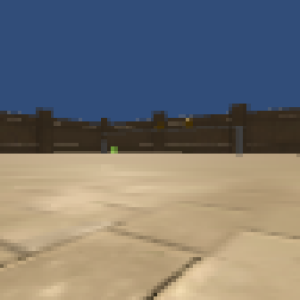goodGoal: (109, 144, 120, 155)
goodGoalMulti: (153, 120, 168, 132), (184, 116, 194, 127)
wall: (233, 125, 243, 158), (100, 138, 108, 154)
